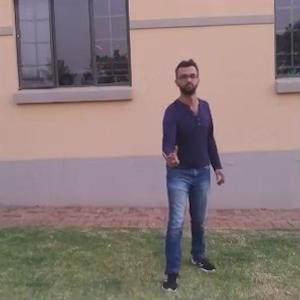takeoff-hand: (156, 138, 185, 169)
